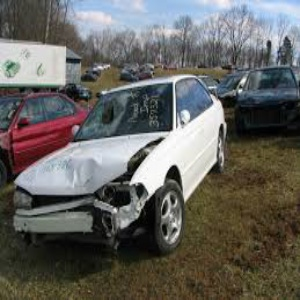bonnet: (41, 144, 130, 189)
bumper: (57, 198, 141, 235)
